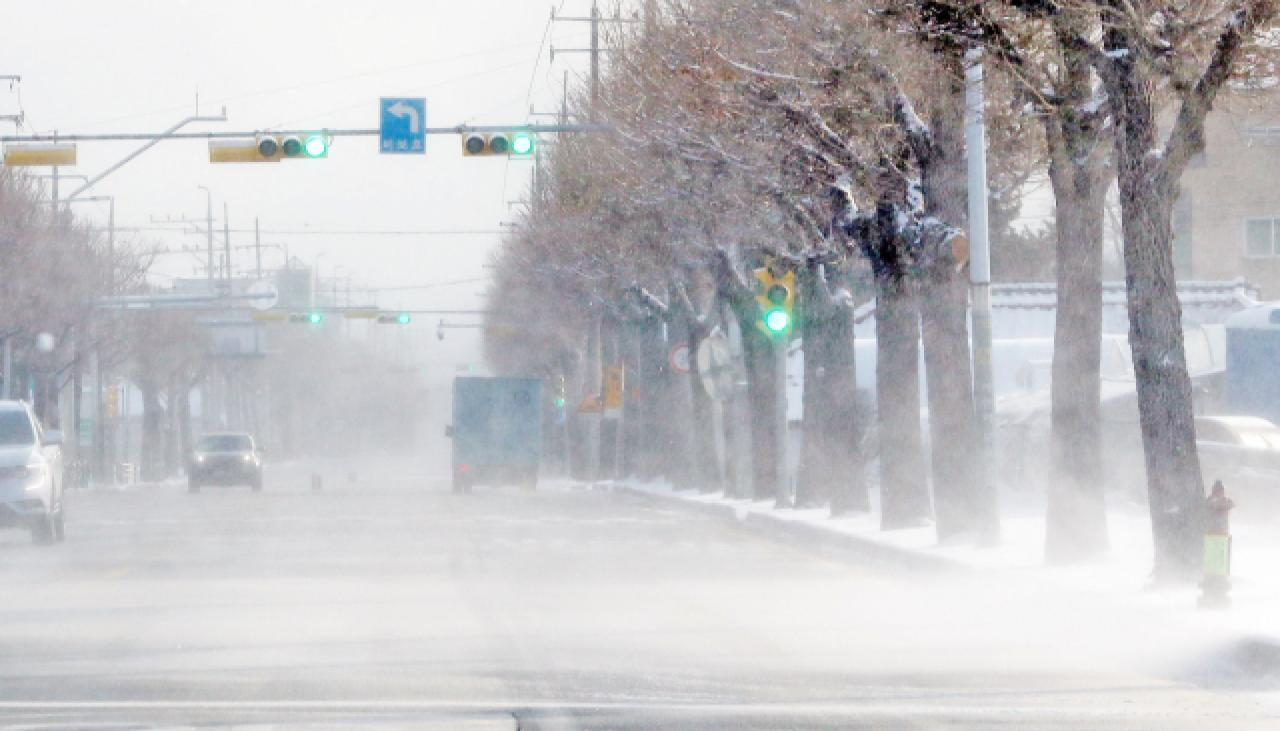Green Light: (509, 126, 541, 162), (759, 308, 797, 335), (299, 132, 329, 162), (306, 313, 322, 325), (396, 313, 410, 325)
